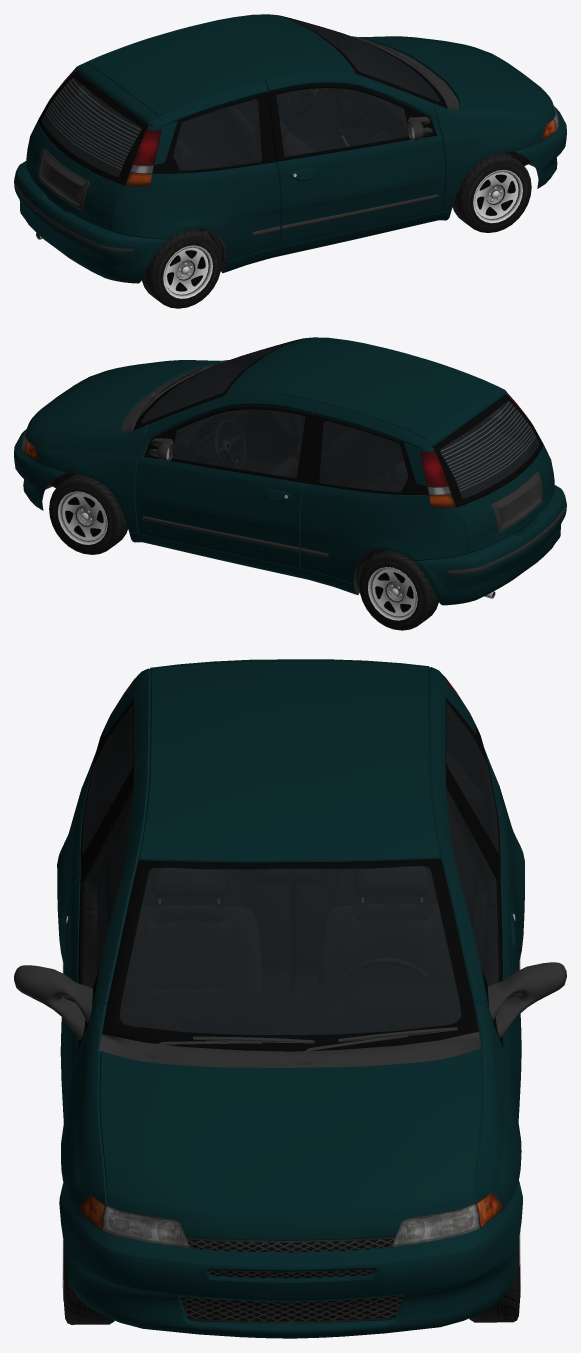
Rendered from car-hatch.glb.
3 views of the same model, one above another, from view 1: azimuth 30°, elevation 25°; view 2: azimuth 150°, elevation 25°; view 3: azimuth 270°, elevation 25° (orthographic). The views are drawn at different scales.
Parts seen in each view (by area): view 1: Milano95_Body_Milano95_Bodymat_0, Milano95_StockKit_Milano95_Bodymat_0, Milano95_interior_UCB_Interiors_2_0, Milano95_Bottom_UCB_BOTTOM_0, Milano95_Glass_Passanger_UCB_Lights_and_Glass_Transperent_0, Milano95_Hood_Milano95_Bodymat_0, Milano95_Bumper_rear_Milano95_Bodymat_0, Milano95_Glass_Rear_UCB_Lights_and_Glass_Transperent_0, Milano95_Glass_UCB_Lights_and_Glass_Transperent_0, Milano95_WheelStock_FR_RB1c_Tire_1k_0, Milano95_WheelStock_RR_RB1c_Tire_1k_0, Milano95_Windshield_UCB_Lights_and_Glass_Transperent_0 (+5 smaller); view 2: Milano95_Body_Milano95_Bodymat_0, Milano95_StockKit_Milano95_Bodymat_0, Milano95_interior_UCB_Interiors_2_0, Milano95_Bottom_UCB_BOTTOM_0, Milano95_Glass_Driver_UCB_Lights_and_Glass_Transperent_0, Milano95_Hood_Milano95_Bodymat_0, Milano95_Bumper_rear_Milano95_Bodymat_0, Milano95_Glass_Rear_UCB_Lights_and_Glass_Transperent_0, Milano95_Glass_UCB_Lights_and_Glass_Transperent_0, Milano95_WheelStock_FL_RB1c_Tire_1k_0, Milano95_WheelStock_RL_RB1c_Tire_1k_0, Milano95_Windshield_UCB_Lights_and_Glass_Transperent_0 (+6 smaller); view 3: Milano95_Body_Milano95_Bodymat_0, Milano95_interior_UCB_Interiors_2_0, Milano95_Hood_Milano95_Bodymat_0, Milano95_Windshield_UCB_Lights_and_Glass_Transperent_0, Milano95_Bumper_front_Milano95_Bodymat_0, Milano95_Bottom_UCB_BOTTOM_0, Milano95_StockKit_Milano95_Bodymat_0, Milano95_Glass_UCB_Lights_and_Glass_Transperent_0, Milano95_Bumper_front_inner_UCB_BOTTOM_0, Milano95_Headlights_Glass_UCB_Lights_and_Glass_Transperent_0, Milano95_Glass_Driver_UCB_Lights_and_Glass_Transperent_0, Milano95_Glass_Passanger_UCB_Lights_and_Glass_Transperent_0 (+4 smaller).
Boxes of the visible parts, <box> form: Milano95_Body_Milano95_Bodymat_0: <box>26,14,445,246</box>; Milano95_StockKit_Milano95_Bodymat_0: <box>26,36,552,272</box>; Milano95_interior_UCB_Interiors_2_0: <box>42,20,439,176</box>; Milano95_Bottom_UCB_BOTTOM_0: <box>37,15,553,273</box>; Milano95_Glass_Passanger_UCB_Lights_and_Glass_Transperent_0: <box>276,88,408,156</box>; Milano95_Hood_Milano95_Bodymat_0: <box>361,36,555,118</box>; Milano95_Bumper_rear_Milano95_Bodymat_0: <box>14,161,168,283</box>; Milano95_Glass_Rear_UCB_Lights_and_Glass_Transperent_0: <box>42,78,141,176</box>; Milano95_Glass_UCB_Lights_and_Glass_Transperent_0: <box>79,86,261,170</box>; Milano95_WheelStock_FR_RB1c_Tire_1k_0: <box>452,152,531,232</box>; Milano95_WheelStock_RR_RB1c_Tire_1k_0: <box>142,228,221,308</box>; Milano95_Windshield_UCB_Lights_and_Glass_Transperent_0: <box>287,18,440,101</box>; Milano95_Body_Milano95_Bodymat_0: <box>135,337,554,568</box>; Milano95_StockKit_Milano95_Bodymat_0: <box>28,360,554,594</box>; Milano95_interior_UCB_Interiors_2_0: <box>141,342,538,554</box>; Milano95_Bottom_UCB_BOTTOM_0: <box>45,338,543,594</box>; Milano95_Glass_Driver_UCB_Lights_and_Glass_Transperent_0: <box>172,409,305,478</box>; Milano95_Hood_Milano95_Bodymat_0: <box>25,360,219,440</box>; Milano95_Bumper_rear_Milano95_Bodymat_0: <box>413,485,566,605</box>; Milano95_Glass_Rear_UCB_Lights_and_Glass_Transperent_0: <box>440,401,539,498</box>; Milano95_Glass_UCB_Lights_and_Glass_Transperent_0: <box>319,409,501,492</box>; Milano95_WheelStock_FL_RB1c_Tire_1k_0: <box>49,474,127,554</box>; Milano95_WheelStock_RL_RB1c_Tire_1k_0: <box>359,550,438,630</box>; Milano95_Windshield_UCB_Lights_and_Glass_Transperent_0: <box>141,341,293,423</box>; Milano95_Body_Milano95_Bodymat_0: <box>60,663,521,1122</box>; Milano95_interior_UCB_Interiors_2_0: <box>83,704,498,1034</box>; Milano95_Hood_Milano95_Bodymat_0: <box>99,1049,481,1240</box>; Milano95_Windshield_UCB_Lights_and_Glass_Transperent_0: <box>119,866,461,1034</box>; Milano95_Bumper_front_Milano95_Bodymat_0: <box>59,1180,522,1338</box>; Milano95_Bottom_UCB_BOTTOM_0: <box>14,697,566,1252</box>; Milano95_StockKit_Milano95_Bodymat_0: <box>57,659,524,1209</box>; Milano95_Glass_UCB_Lights_and_Glass_Transperent_0: <box>82,702,498,854</box>; Milano95_Bumper_front_inner_UCB_BOTTOM_0: <box>180,1269,402,1323</box>; Milano95_Headlights_Glass_UCB_Lights_and_Glass_Transperent_0: <box>78,1193,503,1248</box>; Milano95_Glass_Driver_UCB_Lights_and_Glass_Transperent_0: <box>446,788,498,985</box>; Milano95_Glass_Passanger_UCB_Lights_and_Glass_Transperent_0: <box>82,790,133,987</box>.
Size of the model in its own units: 3.85 by 1.44 by 1.93.
10 materials, 9 textured.
